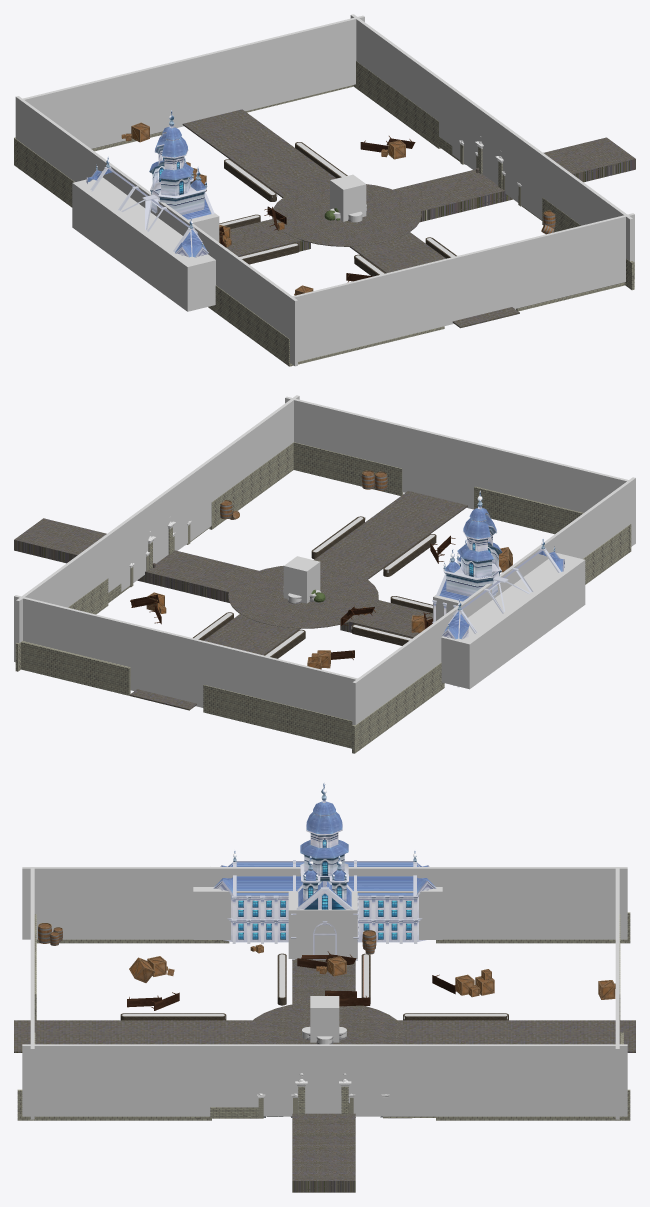
Rendered from academy.glb.
The picture shows the model from 3 angles, top to bottom: view 1: azimuth 30°, elevation 25°; view 2: azimuth 150°, elevation 25°; view 3: azimuth 270°, elevation 25°; orthographic projection. The views are drawn at different scales.
Parts seen in each view (by area): view 1: physics_cube.014, physics_cube.013, physics_cube.011, physics_cube.009, physics_cube.012, road_line.001, road_line, road_circle, R_Material.004_0, wall, wall.007, wall.006 (+6 smaller); view 2: physics_cube.013, physics_cube.014, physics_cube.011, physics_cube.009, physics_cube.012, road_line.001, road_line, road_circle, R_Material.004_0, wall.003, wall.004, wall.002 (+8 smaller); view 3: physics_cube.011, physics_cube.012, R_Material.004_0, road_line.001, road_line, road_circle, physics_cube.008, physics_cube.009, physics_cube, physics_cube.013, physics_cube.014, wall.005 (+7 smaller).
Boxes of the visible parts, x1,y1,x2,y2 form: physics_cube.014: [292, 213, 634, 361]; physics_cube.013: [23, 15, 364, 148]; physics_cube.011: [350, 14, 632, 261]; physics_cube.009: [72, 177, 215, 311]; physics_cube.012: [15, 96, 297, 366]; road_line.001: [182, 109, 519, 328]; road_line: [226, 137, 635, 256]; road_circle: [272, 183, 421, 246]; R_Material.004_0: [86, 110, 214, 257]; wall: [353, 61, 440, 148]; wall.007: [208, 285, 287, 364]; wall.006: [14, 137, 74, 207]; physics_cube.013: [14, 595, 357, 720]; physics_cube.014: [285, 396, 628, 512]; physics_cube.011: [16, 395, 299, 643]; physics_cube.009: [441, 553, 585, 689]; physics_cube.012: [352, 477, 635, 725]; road_line.001: [129, 491, 467, 710]; road_line: [14, 518, 432, 637]; road_circle: [228, 565, 378, 628]; R_Material.004_0: [432, 490, 564, 687]; wall.003: [203, 685, 360, 750]; wall.004: [21, 641, 130, 695]; wall.002: [293, 442, 403, 495]; physics_cube.011: [22, 1044, 627, 1116]; physics_cube.012: [22, 867, 627, 939]; R_Material.004_0: [213, 782, 436, 960]; road_line.001: [14, 1020, 635, 1052]; road_line: [292, 959, 355, 1192]; road_circle: [244, 1002, 405, 1044]; physics_cube.008: [288, 891, 357, 958]; physics_cube.009: [193, 887, 442, 939]; physics_cube: [310, 996, 339, 1042]; physics_cube.013: [615, 868, 619, 1119]; physics_cube.014: [30, 868, 34, 1119]; wall.005: [17, 1089, 211, 1120].
Size of the model in its own units: 137 by 42.14 by 138.
Materials: 21 (18 with a texture image).
